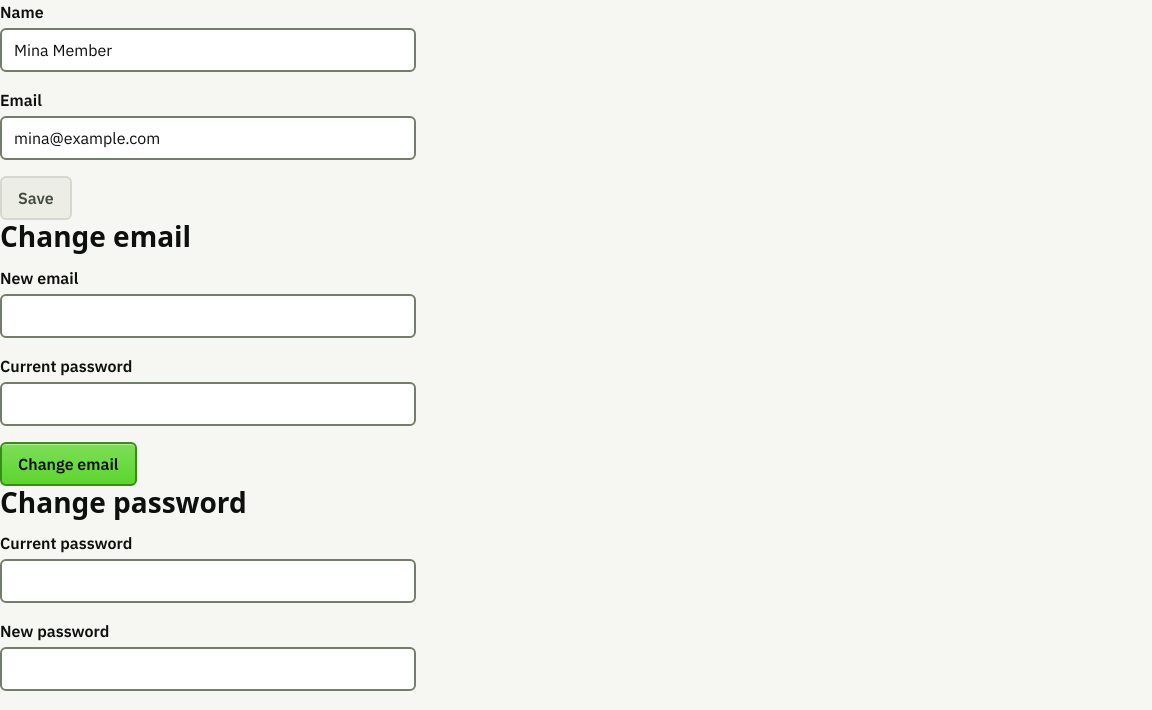
Test: profile settings page › asks before saving, then saves and says so
The width and height of the screenshot is (1152, 710).
Step 1. Replace the text in the field showing "Mina Member" with "Mina Better" → (208, 50), box [0,28,416,72]
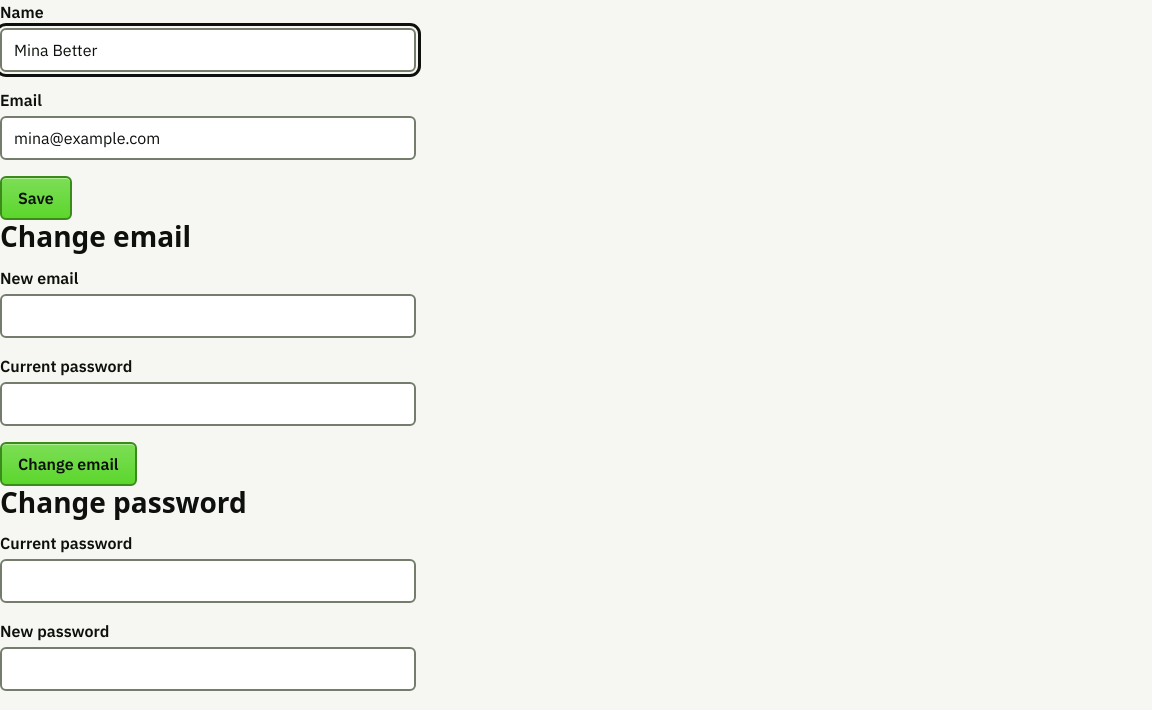
Step 2. Click the button "Save" → (36, 198), box [0,176,72,220]
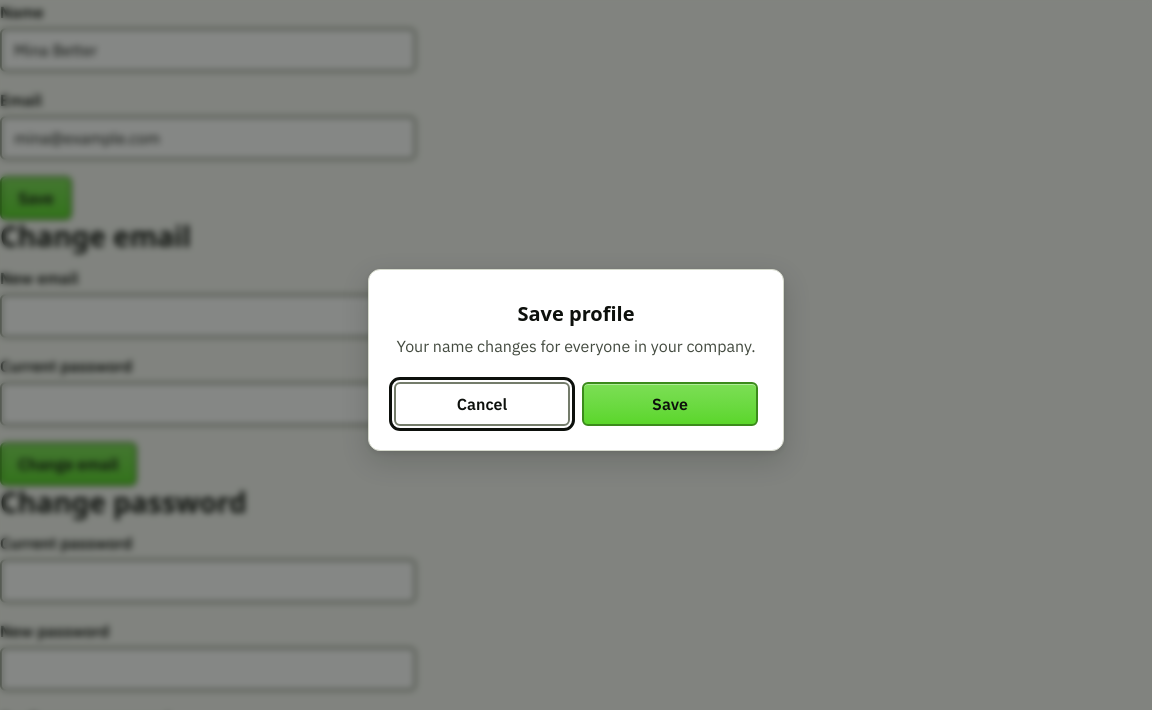
Step 3. Click the button "Save" → (670, 404), box [582,382,758,426]
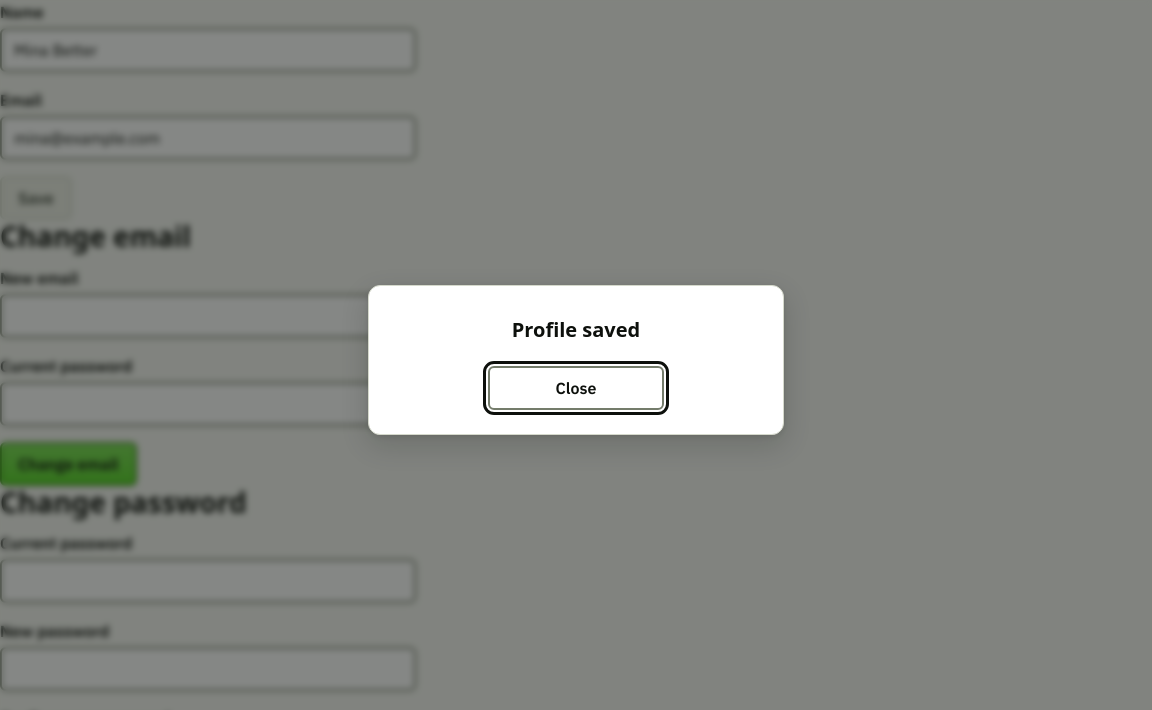
expect the dialog "Profile saved" is shown: met, box [368,285,784,435]
